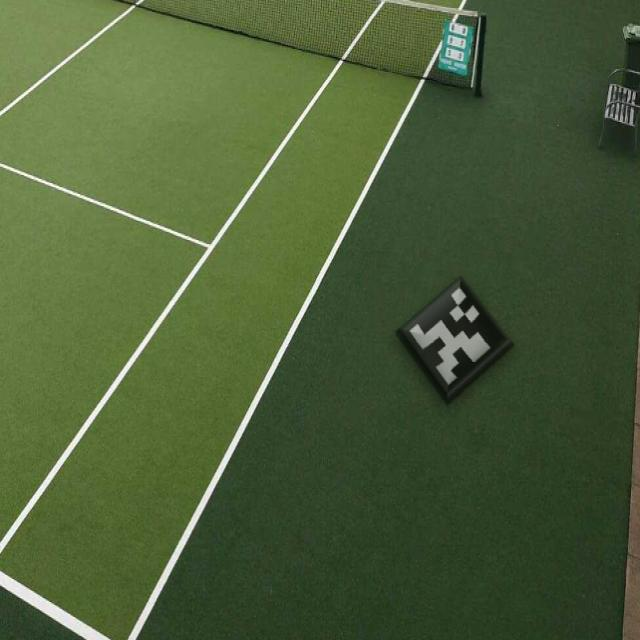marker: (393, 262, 522, 416)
